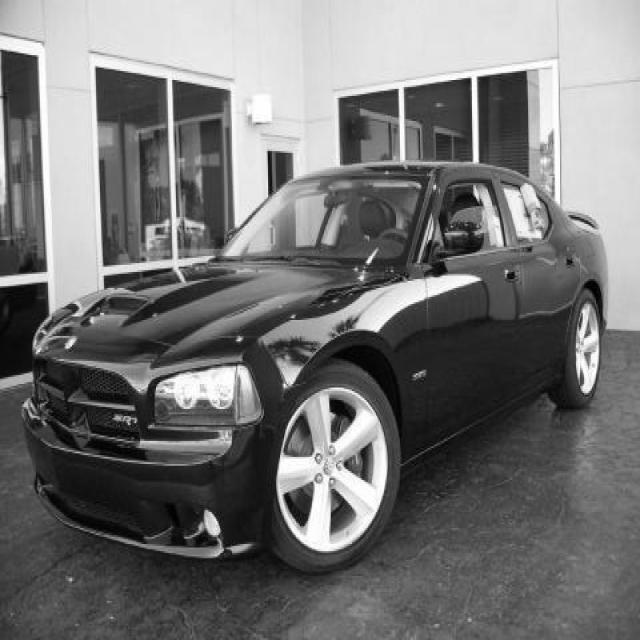car: (20, 158, 609, 574)
